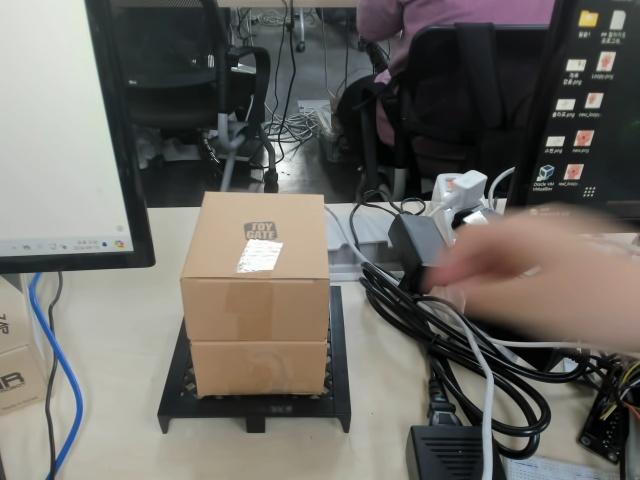box: (155, 192, 353, 434)
